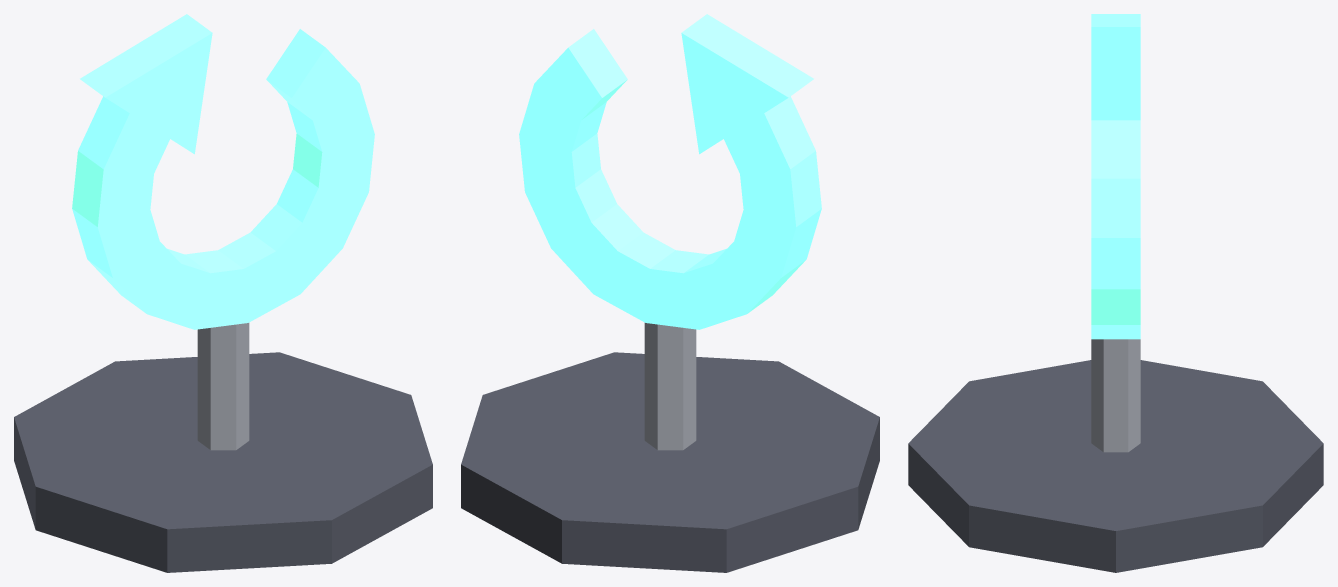
File: RestartModel.fbx
3 views of the same model, side by side, from view 1: azimuth 30°, elevation 25°; view 2: azimuth 150°, elevation 25°; view 3: azimuth 270°, elevation 25° (orthographic). The views are drawn at different scales.
Parts seen in each view (by area): view 1: Restart_Base; view 2: Restart_Base; view 3: Restart_Base.
Part boxes in pixels (left/top/right/bottom): Restart_Base: left=14, top=14, right=432, bottom=572; Restart_Base: left=461, top=14, right=879, bottom=572; Restart_Base: left=908, top=14, right=1323, bottom=572.
Bounding box in the file's own units: 270 × 270 × 321.
